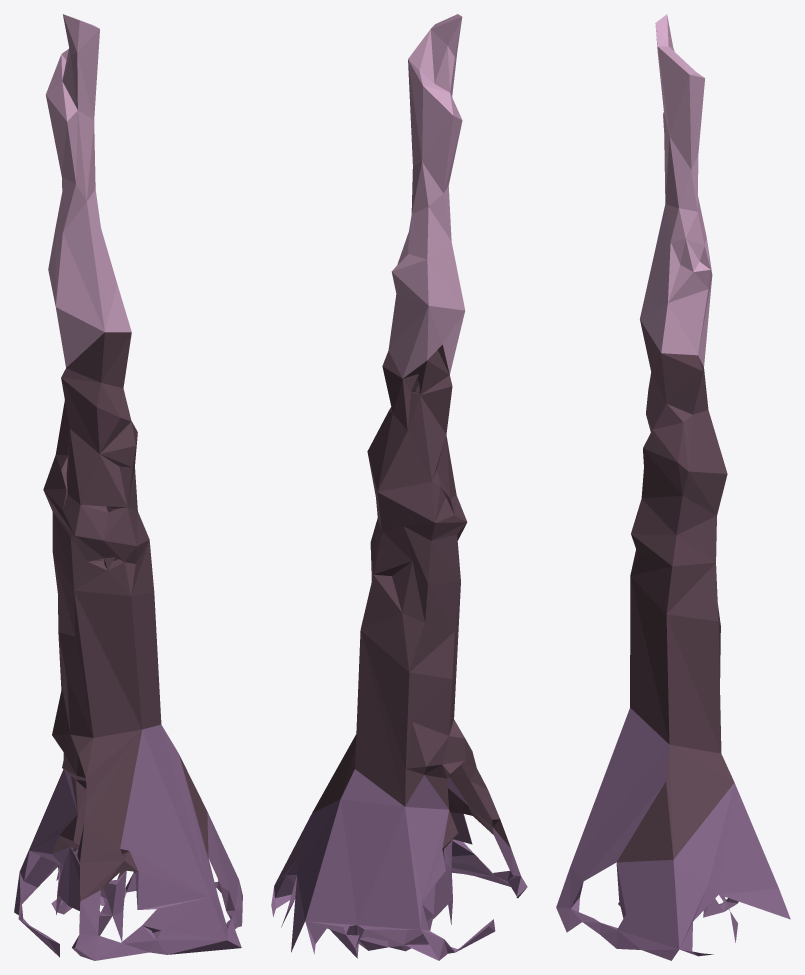
File: CoolerStalagmite.fbx
3 renders of one model, left to right at view 1: azimuth 30°, elevation 25°; view 2: azimuth 150°, elevation 25°; view 3: azimuth 270°, elevation 25°, orthographic. The views are drawn at different scales.
Parts seen in each view (by area): view 1: Stick; view 2: Stick; view 3: Stick.
Part boxes in pixels (x1,y1,x2,y2): Stick: (14,14,242,960); Stick: (271,14,527,960); Stick: (556,14,790,960).
Bounding box in the file's own units: 155 × 657 × 161.
